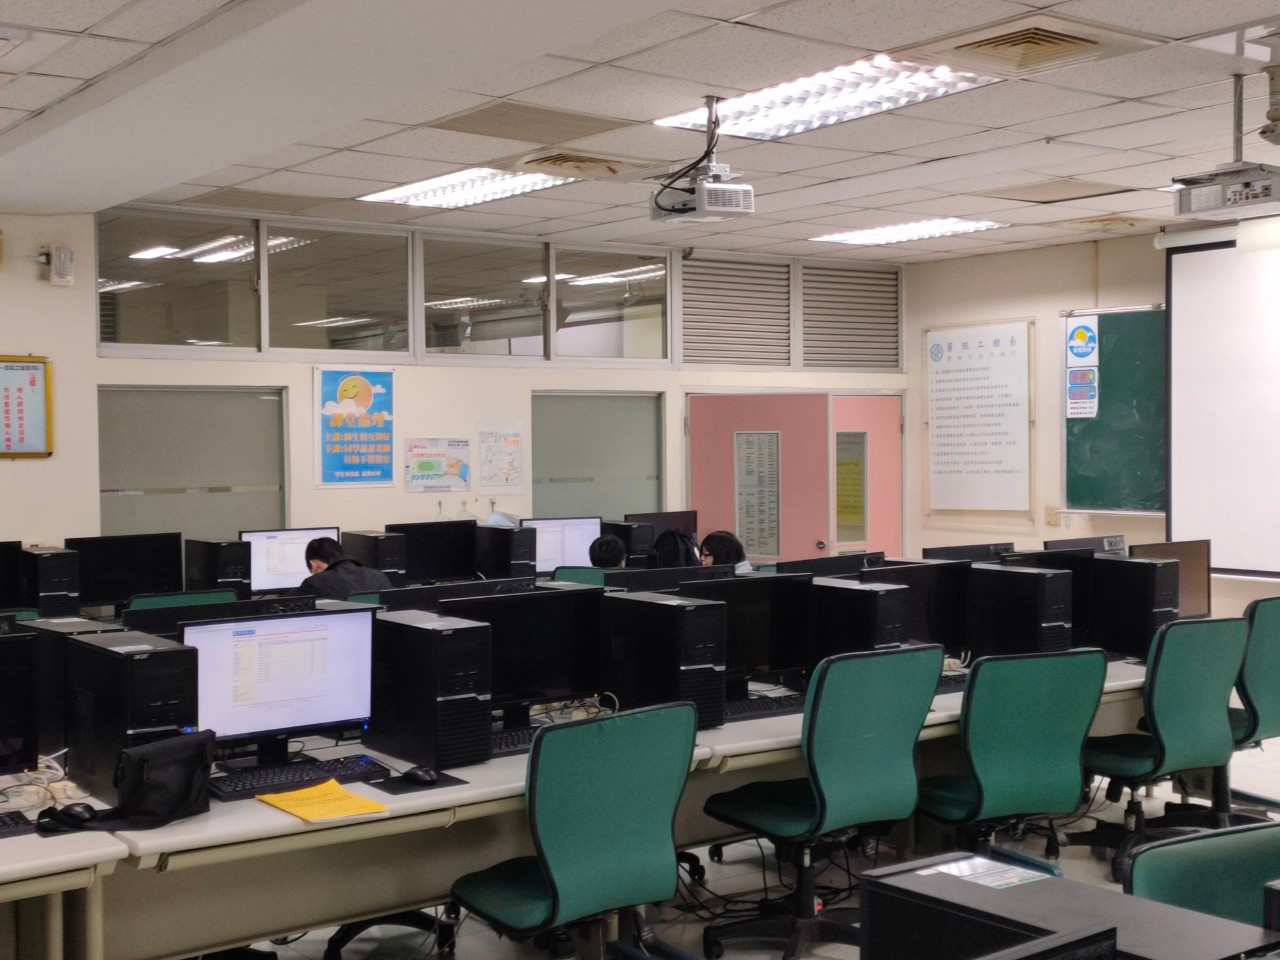people: (295, 533, 397, 607), (693, 524, 768, 597), (586, 535, 640, 589)
